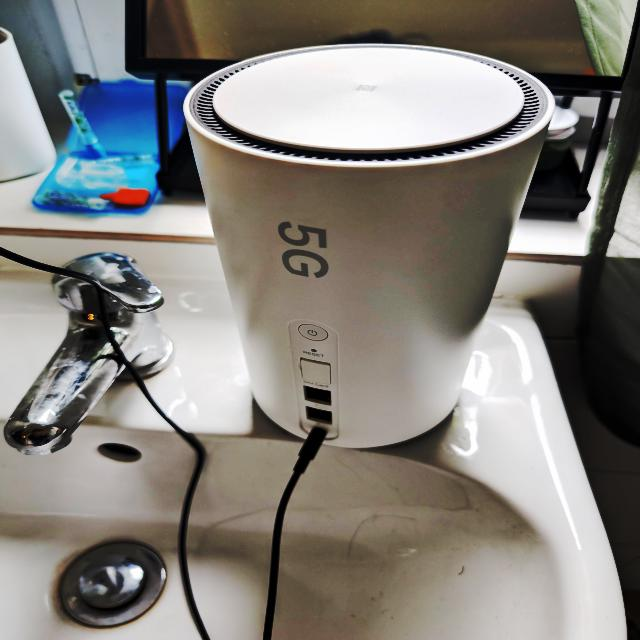lan: (304, 406, 338, 427), (302, 384, 334, 405)
modem: (177, 42, 565, 450)
onbutton: (296, 322, 331, 344)
powcab: (266, 425, 360, 518)
sim: (298, 357, 334, 387)
